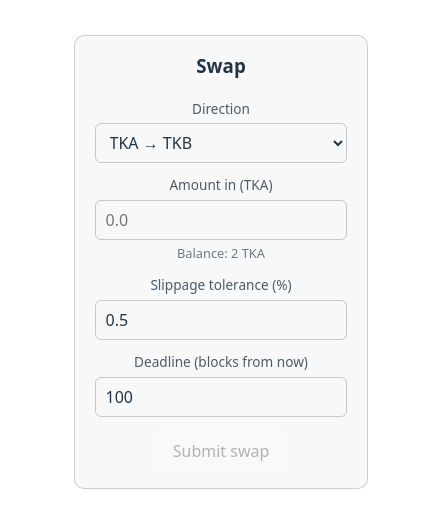
Test: SwapForm › rejects an invalid slippage
In the field labelled "Amount in (TKA)": coordinates (221, 220) x1=95 y1=200 x2=347 y2=240, type "1"
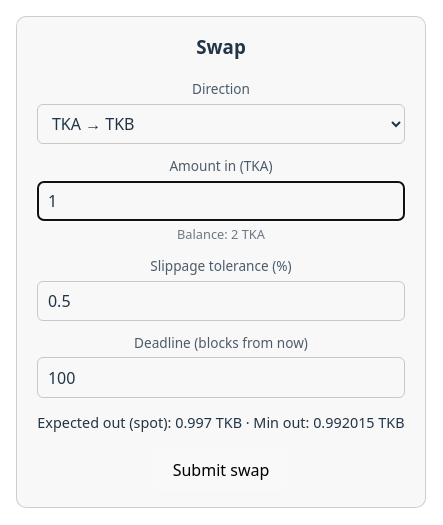
Clear the field labelled "Slippage tolerance (%)": coordinates (221, 301) x1=37 y1=281 x2=405 y2=321
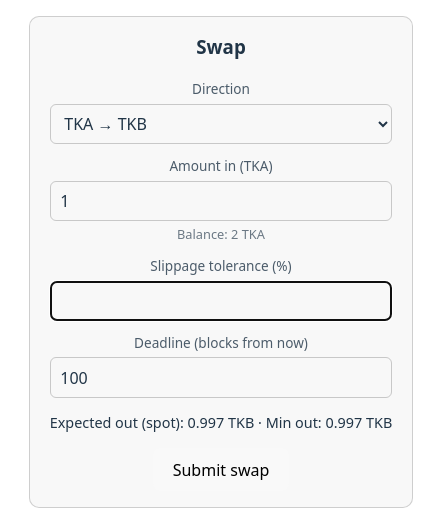
In the field labelled "Slippage tolerance (%)": coordinates (221, 301) x1=50 y1=281 x2=392 y2=321, type "101"
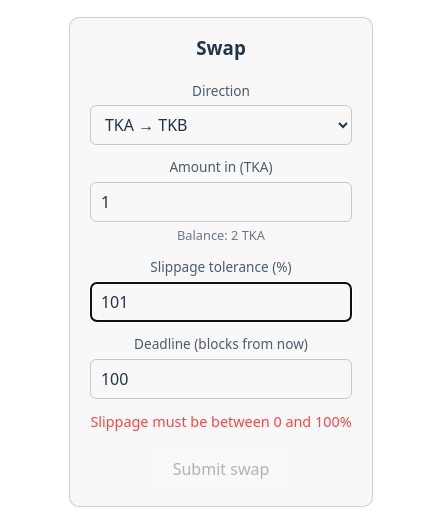
Expected: the message shows "Slippage must be between", x1=90 y1=412 x2=352 y2=431
Expected: the button "Submit swap" is disabled, x1=152 y1=447 x2=290 y2=490
